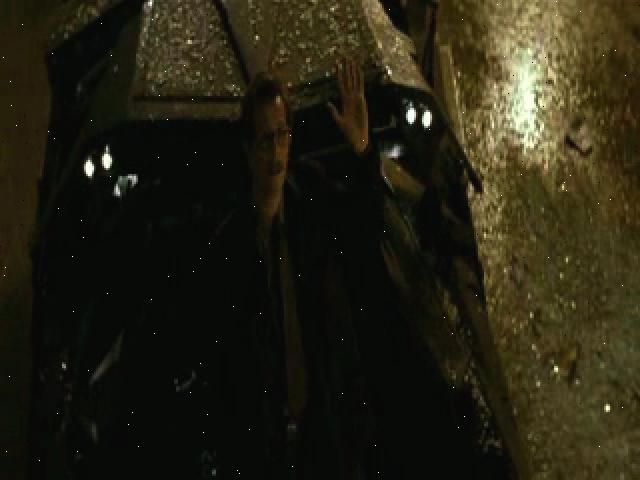L: (214, 61, 402, 476)
